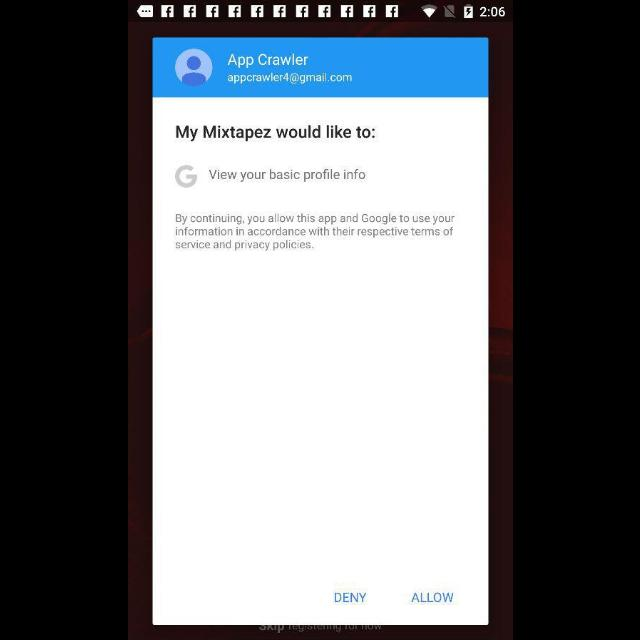icon: (174, 48, 212, 86)
panel: (152, 39, 488, 626)
text: (176, 214, 454, 252), (176, 126, 374, 142), (226, 72, 352, 86), (227, 54, 307, 68), (175, 165, 198, 189), (411, 592, 453, 604), (334, 592, 366, 602)
textbutton: (209, 169, 365, 183)
uppertaskbar: (128, 1, 512, 23)
